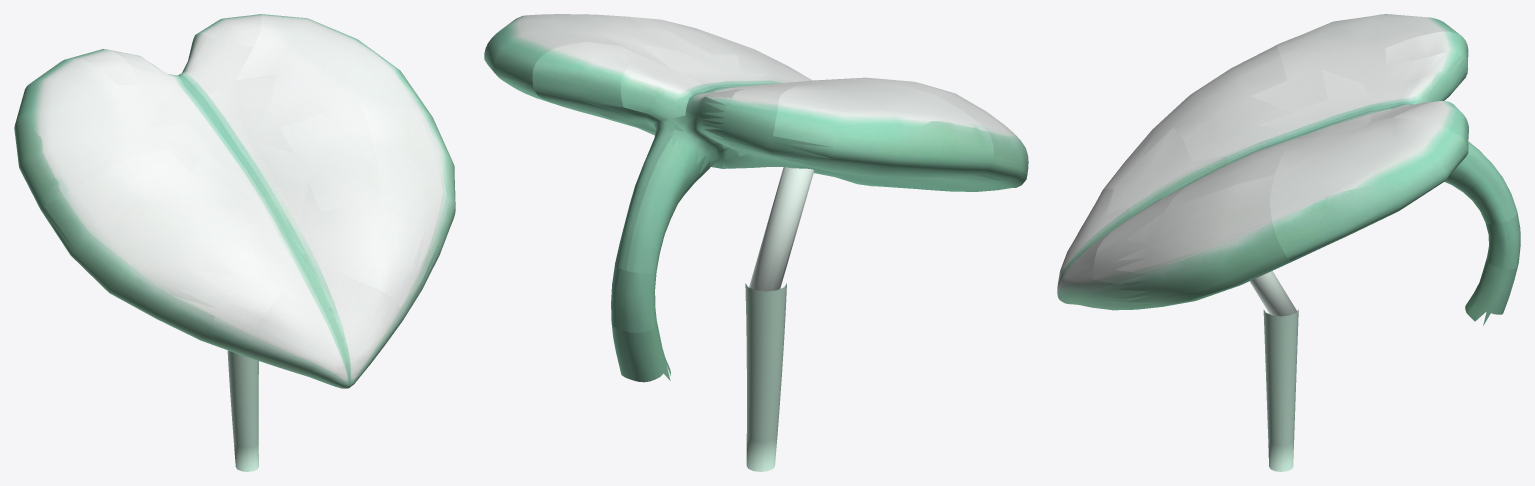
The model's file is monstera_leaf_fullalbo.glb.
3 renders of one model, left to right at view 1: azimuth 30°, elevation 25°; view 2: azimuth 150°, elevation 25°; view 3: azimuth 270°, elevation 25°, orthographic. The views are drawn at different scales.
Visible parts, largest first — view 1: g1, g0; view 2: g1, g0, petiole_link; view 3: g1, g0, petiole_link.
Part boxes in pixels (bbox=[...]): g1: bbox=[14, 14, 455, 388]; g0: bbox=[227, 350, 258, 471]; g1: bbox=[484, 14, 1028, 382]; g0: bbox=[745, 283, 786, 471]; petiole_link: bbox=[749, 167, 814, 291]; g1: bbox=[1057, 14, 1520, 325]; g0: bbox=[1263, 309, 1298, 471]; petiole_link: bbox=[1249, 271, 1296, 316].
Size of the model in its own units: 2 by 1.85 by 2.
Materials: 3 (1 with a texture image).
